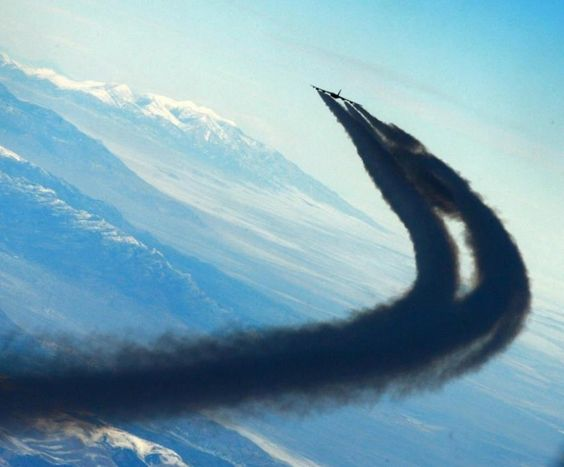B52: (309, 83, 364, 107)
